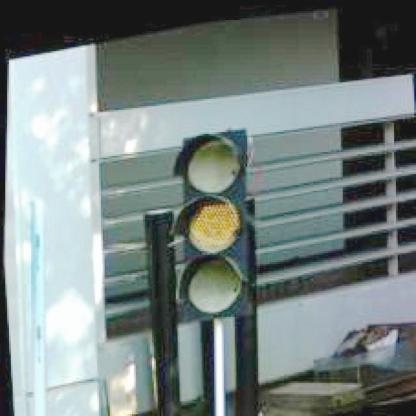Traffic Light -Yellow-: (162, 122, 259, 322)
